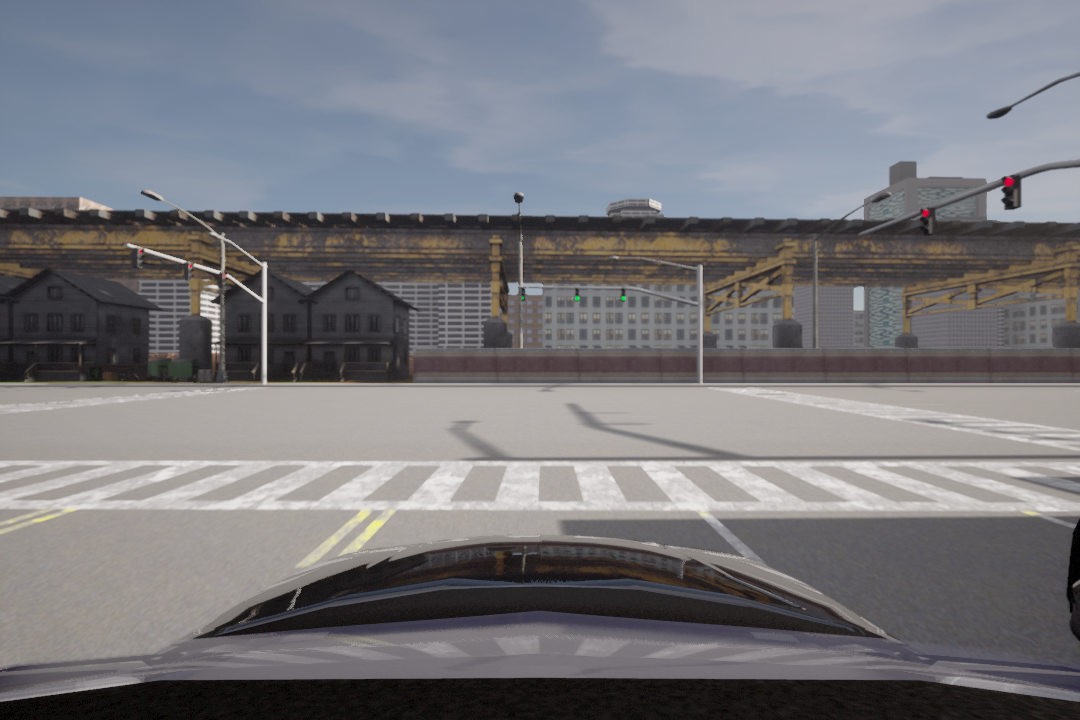TrafficLight: (997, 171, 1025, 214), (918, 206, 937, 237), (214, 270, 230, 293), (132, 245, 145, 270), (518, 286, 529, 304), (184, 261, 194, 279), (572, 287, 582, 304), (619, 287, 628, 302)
walkside: (2, 454, 1080, 529)
